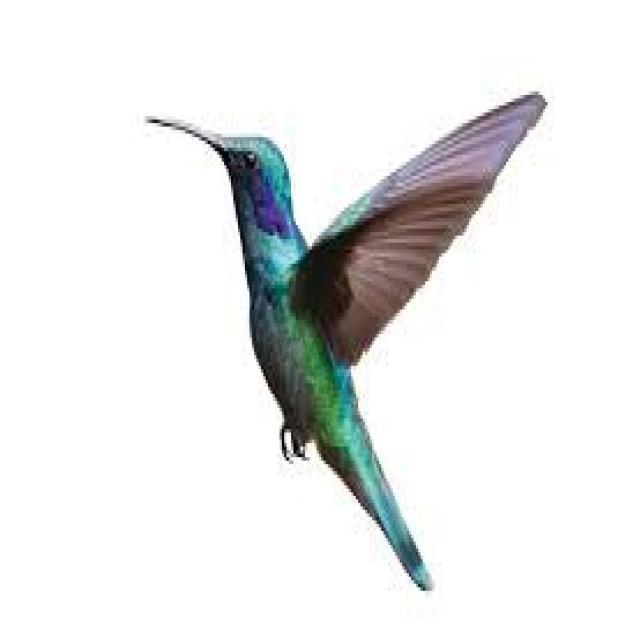Humming Bird: (134, 80, 549, 578)
